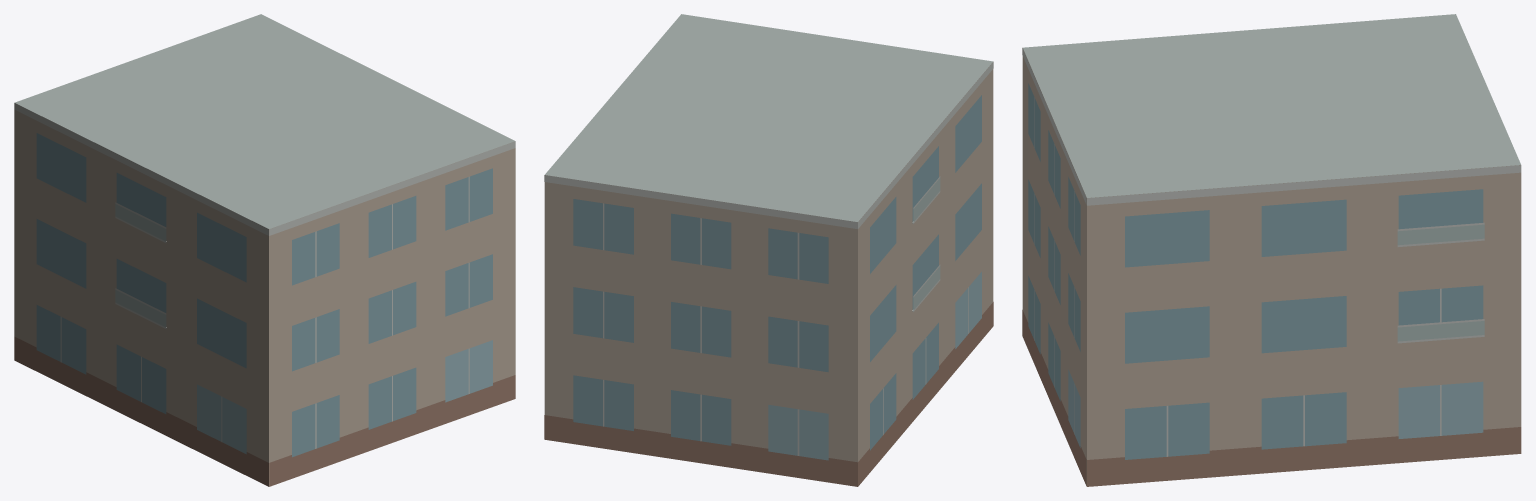
File: survey-upis-32708129.glb
3 views of the same model, side by side, from view 1: azimuth 30°, elevation 25°; view 2: azimuth 150°, elevation 25°; view 3: azimuth 270°, elevation 25° (orthographic). The views are drawn at different scales.
Visible parts, largest first — view 1: survey-upis-32708129.tmp; view 2: survey-upis-32708129.tmp; view 3: survey-upis-32708129.tmp.
Part boxes in pixels (x1,y1,x2,y2): survey-upis-32708129.tmp: (14, 14, 515, 486); survey-upis-32708129.tmp: (544, 14, 993, 486); survey-upis-32708129.tmp: (1022, 14, 1521, 486).
Size of the model in its own units: 12.52 by 9.15 by 14.33.
